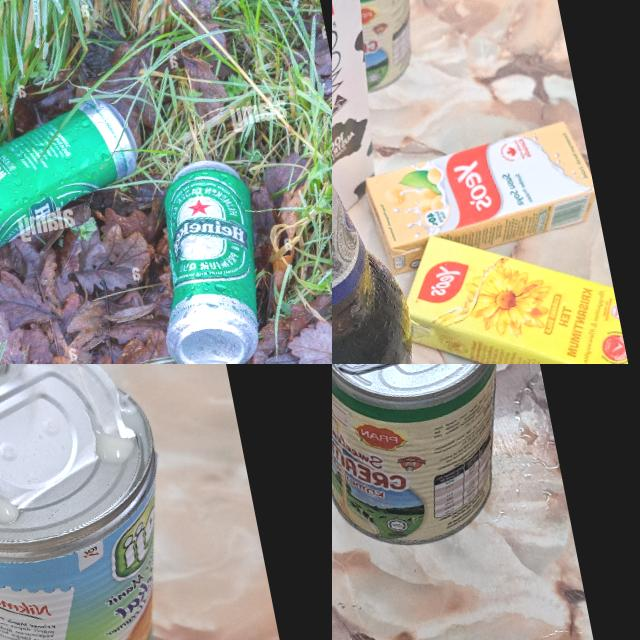aba de lata: (332, 364, 419, 380)
caixinha: (387, 204, 636, 364), (355, 116, 602, 276)
garrafa de vidro: (332, 93, 439, 364)
lata: (0, 364, 202, 640), (332, 364, 533, 561), (130, 153, 279, 364), (0, 94, 154, 270), (332, 0, 435, 95)
